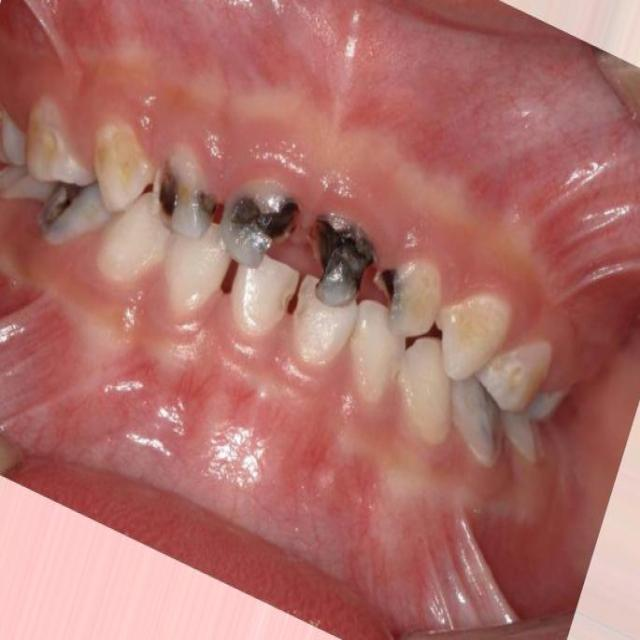caries: (223, 150, 300, 263), (308, 198, 374, 311), (154, 138, 212, 240), (36, 175, 102, 236), (382, 242, 414, 330)
